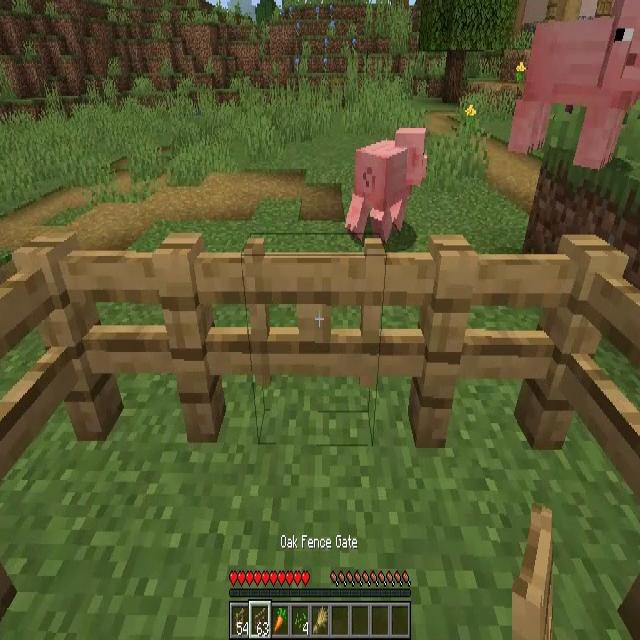pig: (509, 0, 638, 170), (346, 130, 426, 241)
